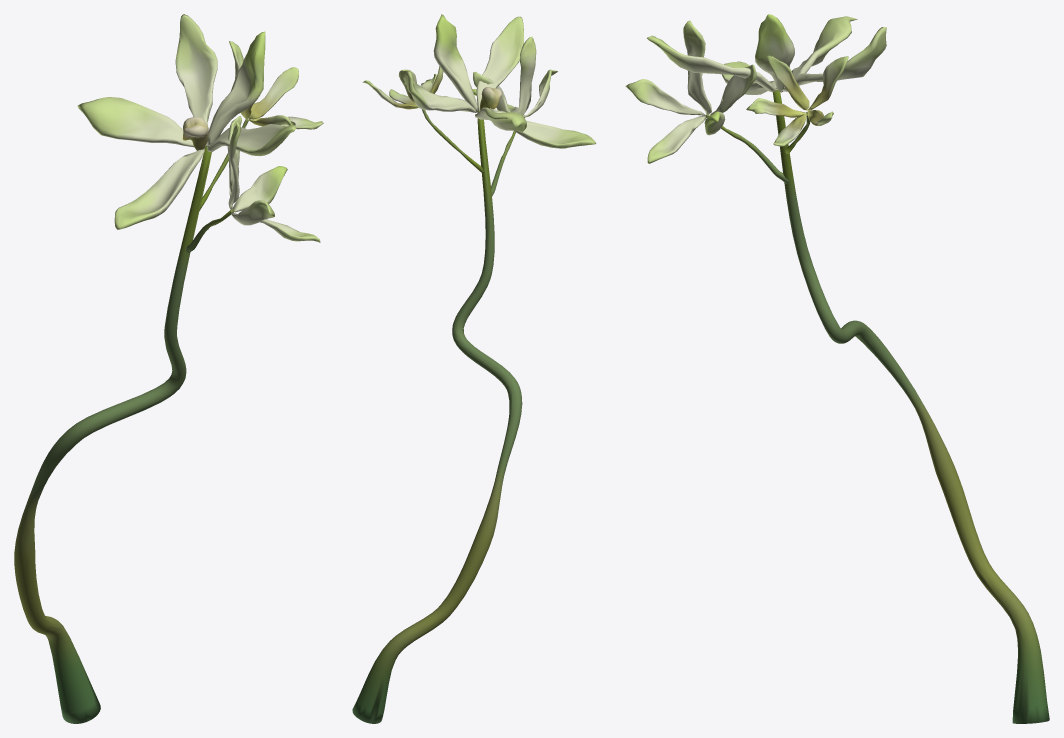
3 renders of one model, left to right at view 1: azimuth 30°, elevation 25°; view 2: azimuth 150°, elevation 25°; view 3: azimuth 270°, elevation 25°, orthographic. The views are drawn at different scales.
Parts seen in each view (by area): view 1: LOD 0_8817940389063460455_bb9398364d468ec489d5e3c54dd32286; view 2: LOD 0_8817940389063460455_bb9398364d468ec489d5e3c54dd32286; view 3: LOD 0_8817940389063460455_bb9398364d468ec489d5e3c54dd32286.
Part boxes in pixels (bbox=[...]): LOD 0_8817940389063460455_bb9398364d468ec489d5e3c54dd32286: bbox=[14, 14, 323, 723]; LOD 0_8817940389063460455_bb9398364d468ec489d5e3c54dd32286: bbox=[352, 14, 596, 723]; LOD 0_8817940389063460455_bb9398364d468ec489d5e3c54dd32286: bbox=[625, 14, 1049, 723].
Size of the model in its own units: 4.97 by 15.48 by 8.12.
